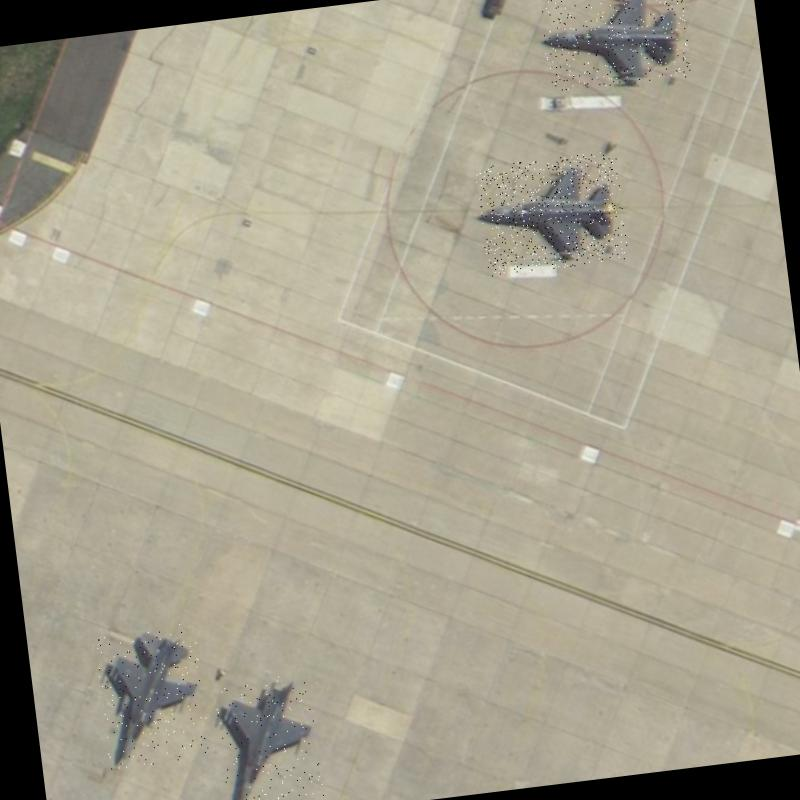A5: (474, 150, 628, 276), (93, 622, 211, 769), (212, 672, 324, 800), (538, 0, 692, 93)
